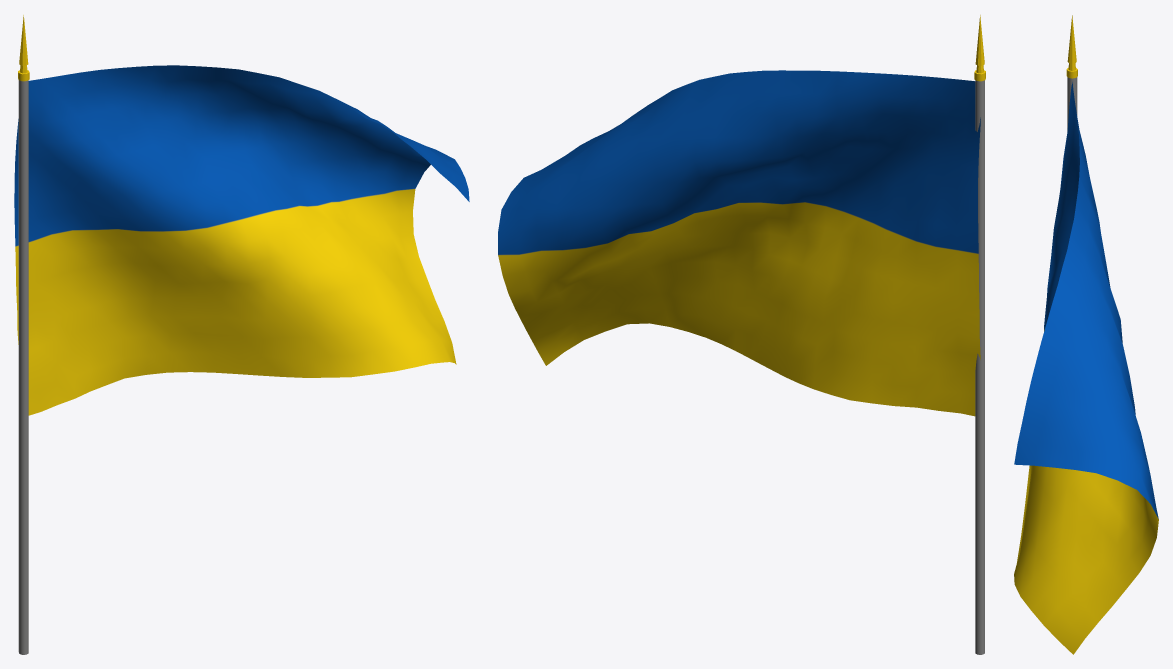
File: ukrflag.glb
3 views of the same model, side by side, from view 1: azimuth 30°, elevation 25°; view 2: azimuth 150°, elevation 25°; view 3: azimuth 270°, elevation 25° (orthographic). The views are drawn at different scales.
Visible parts, largest first — view 1: mesh_0, pCylinder358; view 2: mesh_0, pCylinder358; view 3: mesh_0, pCylinder358.
Boxes of the visible parts, bbox=[...] form: mesh_0: bbox=[14, 65, 469, 415]; pCylinder358: bbox=[18, 15, 29, 654]; mesh_0: bbox=[498, 70, 980, 416]; pCylinder358: bbox=[974, 15, 985, 654]; mesh_0: bbox=[1014, 82, 1158, 654]; pCylinder358: bbox=[1066, 15, 1077, 131].
Bounding box in the file's own units: 2.81 × 3.8 × 0.8164.
3 materials, 1 textured.
